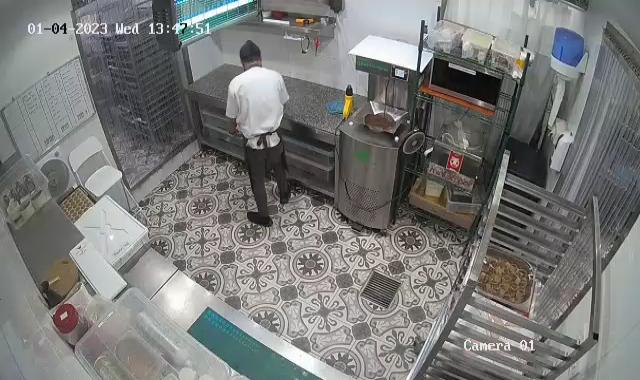no_hairnet: (238, 40, 264, 70)
